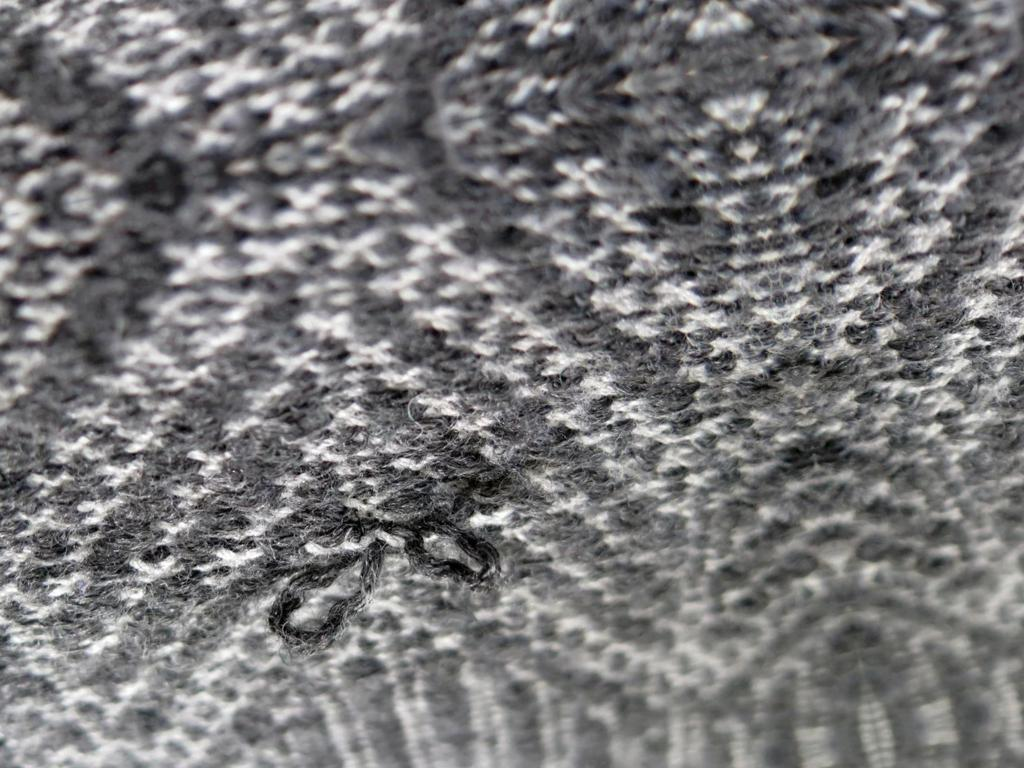snag: (256, 536, 385, 656), (399, 504, 510, 595)
